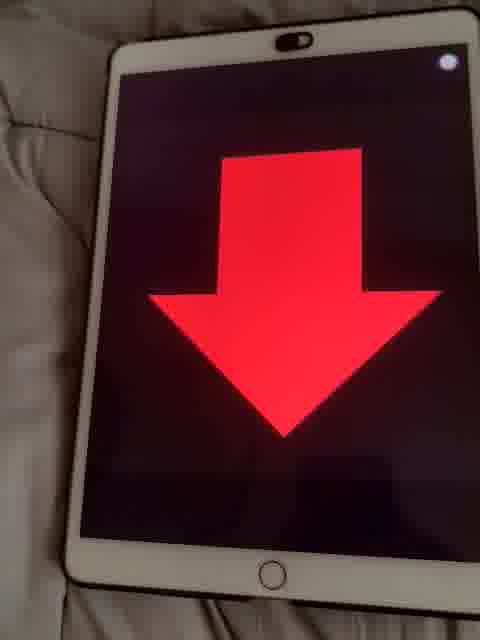down: (149, 149, 447, 455)
